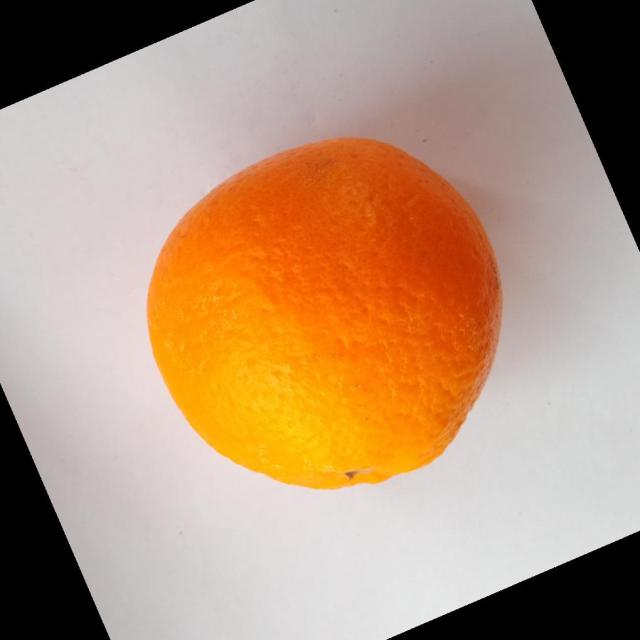fresh orange: (145, 135, 504, 491)
